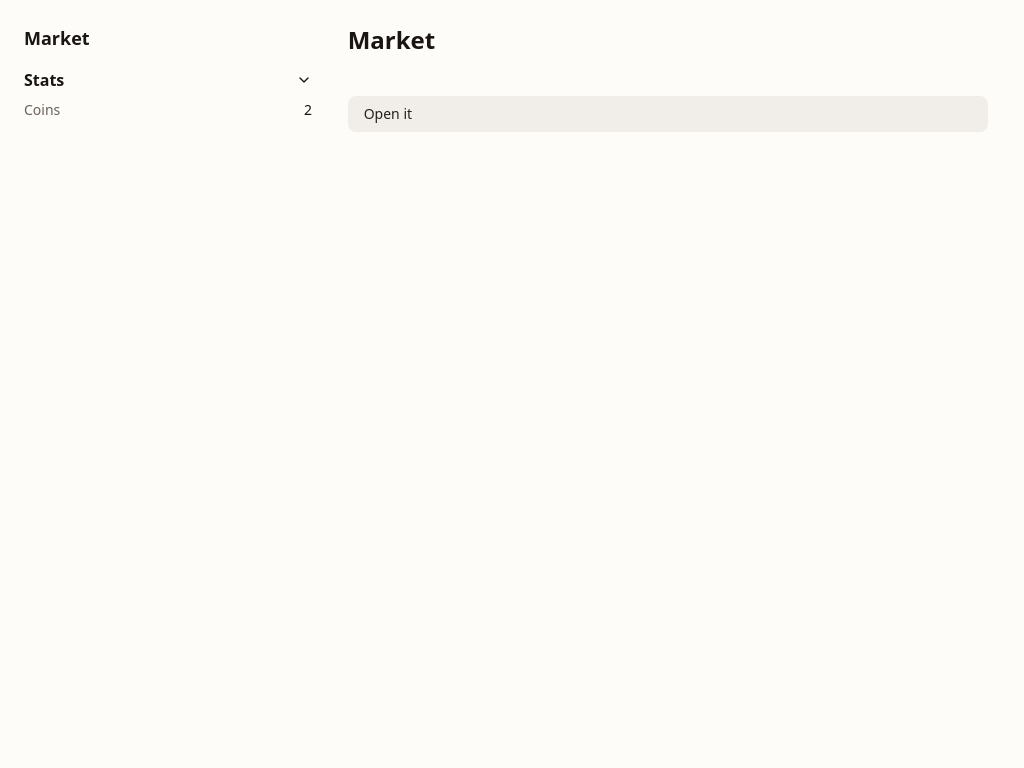
Test case: a panel found by name › the game’s over a plugin UI’s: prices draws "The game’s own"
Click the button "Open it" at coordinates (388, 114), box [348,96,988,132]
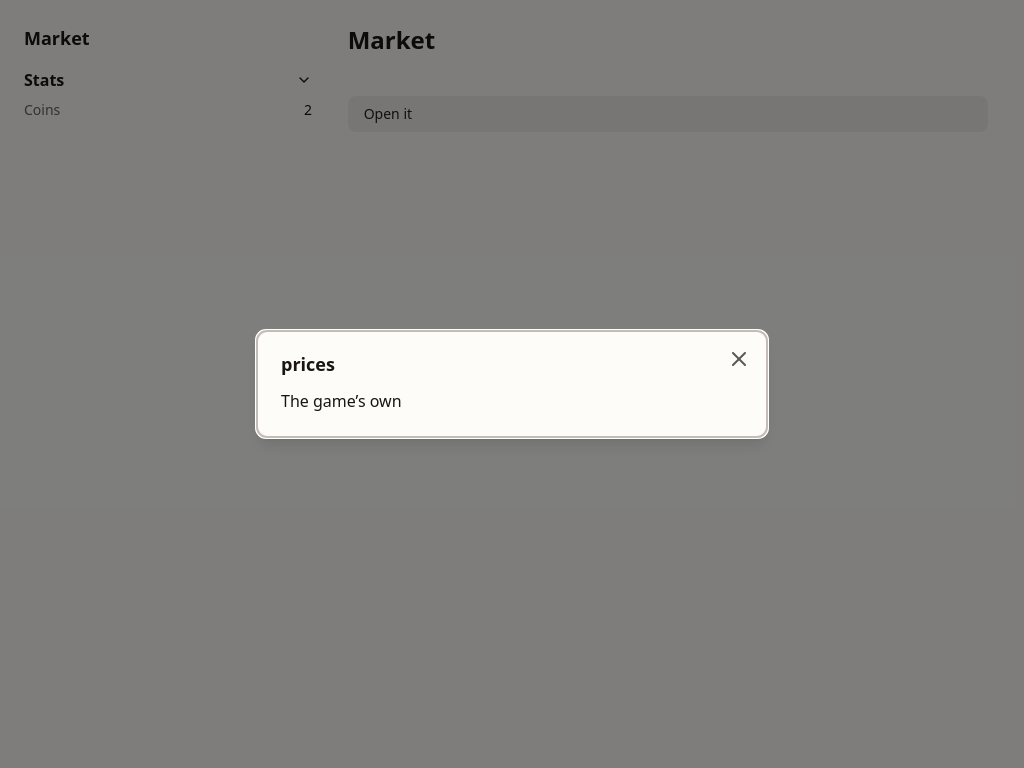
Now the dialog shows "The game’s own", box [281,390,402,412]
